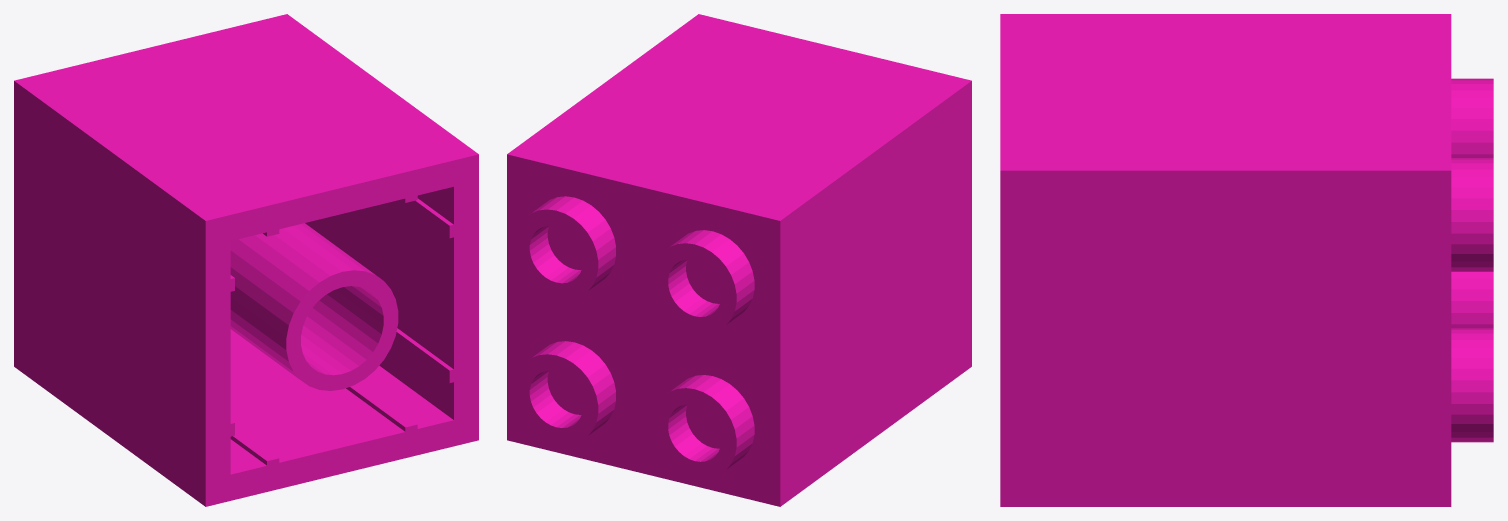
File: duplo5_5.dae
3 views of the same model, side by side, from view 1: azimuth 30°, elevation 25°; view 2: azimuth 150°, elevation 25°; view 3: azimuth 270°, elevation 25° (orthographic). The views are drawn at different scales.
Visible parts, largest first — view 1: duplo5_019; view 2: duplo5_019; view 3: duplo5_019.
Part boxes in pixels (x1,y1,x2,y2): duplo5_019: [14, 14, 478, 506]; duplo5_019: [507, 14, 971, 506]; duplo5_019: [1000, 14, 1493, 506].
Size of the model in its own units: 0.0643 by 0.0855 by 0.0643.
